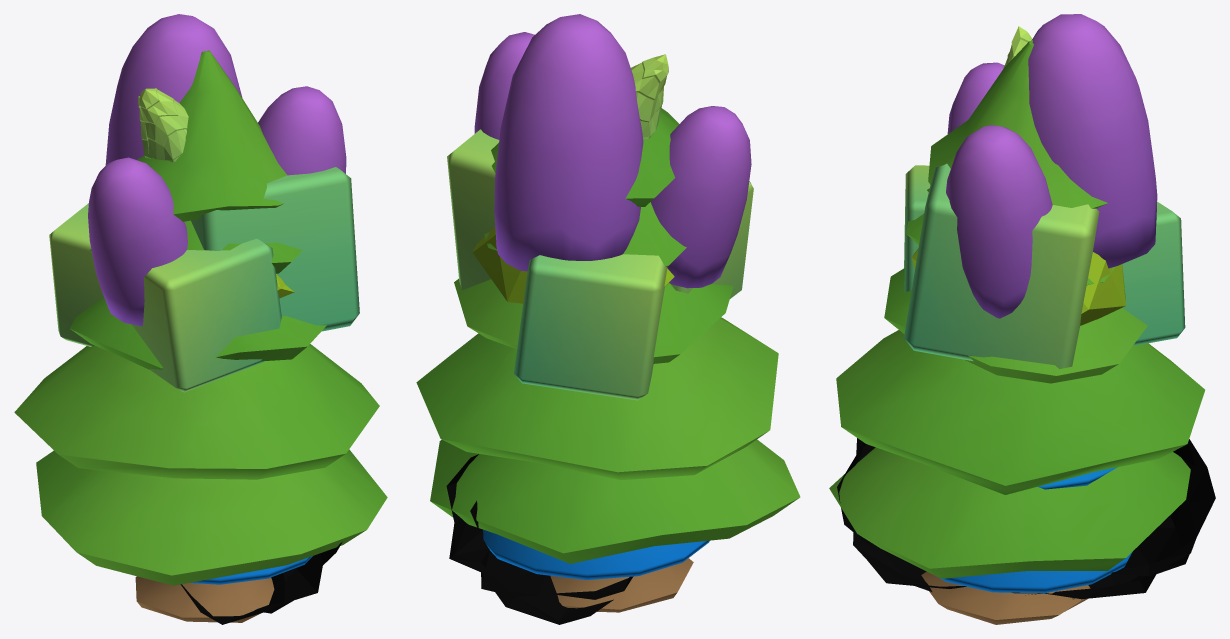
The model's file is assets2.glb.
3 renders of one model, left to right at view 1: azimuth 30°, elevation 25°; view 2: azimuth 150°, elevation 25°; view 3: azimuth 270°, elevation 25°, orthographic. The views are drawn at different scales.
Visible parts, largest first — view 1: Circle.001_Material.015_0, Plane.002_Material.003_0, Plane.009_Material.008_0, Plane.015_Material.023_0, Icosphere.006_Material.028_0, Cone.002_Material.007_0; view 2: Circle.001_Material.015_0, Plane.009_Material.008_0, Plane.002_Material.003_0, Icosphere.006_Material.028_0, Cone.002_Material.007_0, Plane.015_Material.023_0, Icosphere.018_Material.002_0; view 3: Circle.001_Material.015_0, Plane.009_Material.008_0, Plane.002_Material.003_0, Icosphere.006_Material.028_0, Cone.002_Material.007_0, Icosphere.018_Material.002_0.
Boxes of the visible parts, <box> form: Circle.001_Material.015_0: <box>14,50,387,622</box>; Plane.002_Material.003_0: <box>49,167,359,392</box>; Plane.009_Material.008_0: <box>88,14,346,326</box>; Plane.015_Material.023_0: <box>138,88,188,162</box>; Icosphere.006_Material.028_0: <box>180,541,342,624</box>; Cone.002_Material.007_0: <box>190,556,312,584</box>; Circle.001_Material.015_0: <box>416,108,800,612</box>; Plane.009_Material.008_0: <box>474,14,751,288</box>; Plane.002_Material.003_0: <box>447,129,753,400</box>; Icosphere.006_Material.028_0: <box>446,454,633,624</box>; Cone.002_Material.007_0: <box>483,529,709,579</box>; Plane.015_Material.023_0: <box>631,54,668,139</box>; Icosphere.018_Material.002_0: <box>472,227,674,303</box>; Circle.001_Material.015_0: <box>829,40,1204,624</box>; Plane.009_Material.008_0: <box>946,14,1157,318</box>; Plane.002_Material.003_0: <box>904,163,1185,369</box>; Icosphere.006_Material.028_0: <box>837,438,1215,599</box>; Cone.002_Material.007_0: <box>938,467,1132,599</box>; Icosphere.018_Material.002_0: <box>912,248,1125,325</box>.
Bounding box in the file's own units: 3.53 × 6.1 × 3.69.
Materials: 7 (6 with a texture image).
